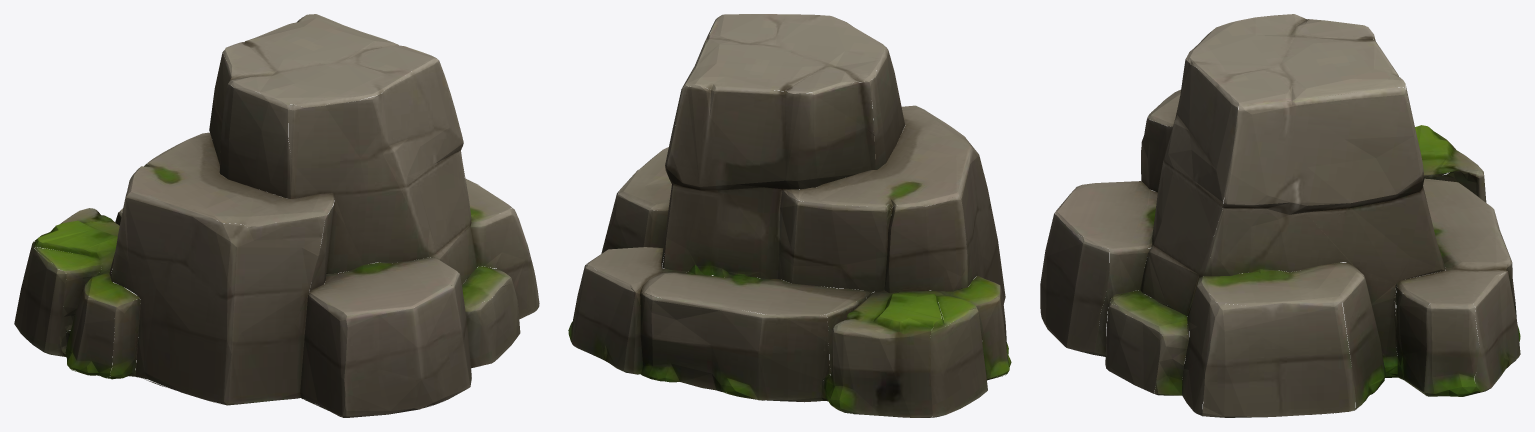
File: rocks.glb
3 views of the same model, side by side, from view 1: azimuth 30°, elevation 25°; view 2: azimuth 150°, elevation 25°; view 3: azimuth 270°, elevation 25° (orthographic). The views are drawn at different scales.
Parts seen in each view (by area): view 1: geometry_0; view 2: geometry_0; view 3: geometry_0.
Boxes of the visible parts, <box> form: geometry_0: <box>14,14,539,417</box>; geometry_0: <box>568,14,1011,417</box>; geometry_0: <box>1040,14,1520,417</box>.
Bounding box in the file's own units: 0.9975 × 0.6026 × 0.9445.
1 material, 1 textured.
